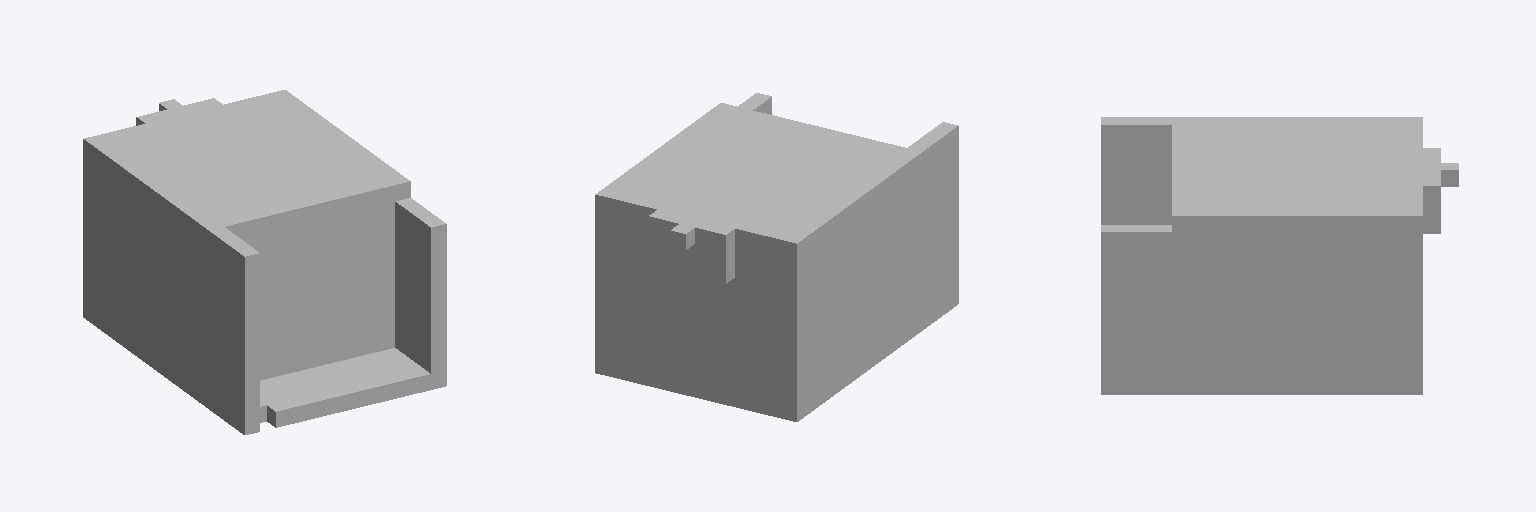
Rendered from body.obj.
3 views of the same model, side by side, from view 1: azimuth 30°, elevation 25°; view 2: azimuth 150°, elevation 25°; view 3: azimuth 270°, elevation 25° (orthographic).
Bounding box in the file's own units: 13 × 11 × 20.